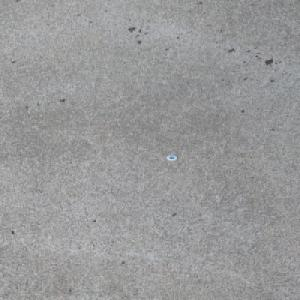Washer: (165, 153, 178, 161)
